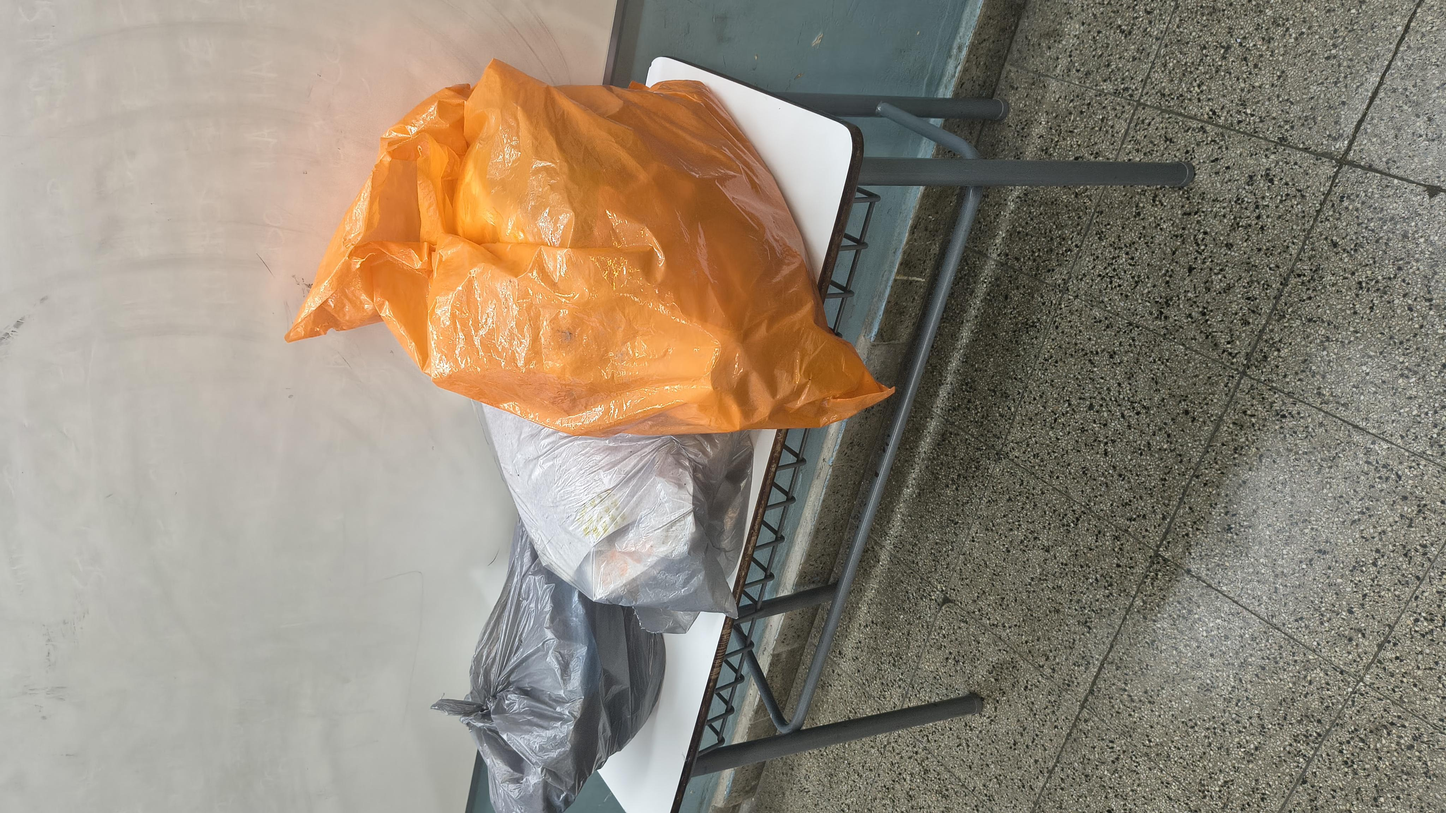Garbage: (659, 159, 1349, 498), (358, 266, 822, 427), (0, 236, 483, 381)
